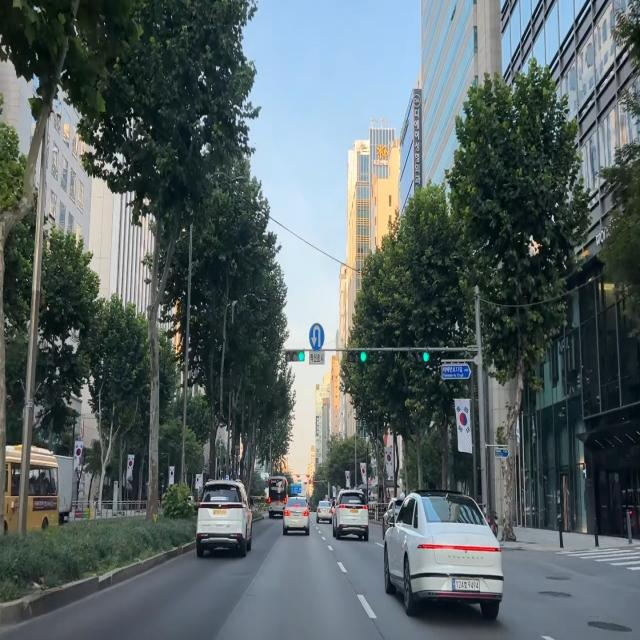Green Light: (360, 349, 368, 363), (422, 351, 430, 362), (298, 351, 304, 362)
